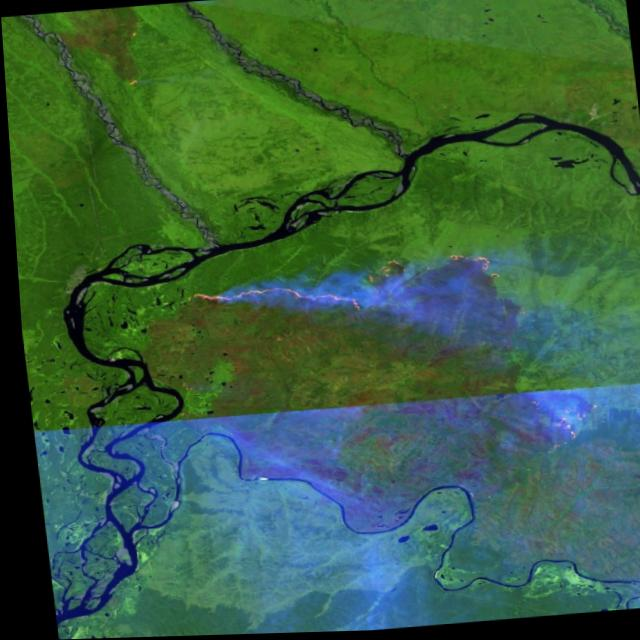fire: (175, 244, 511, 336), (522, 390, 605, 461)
